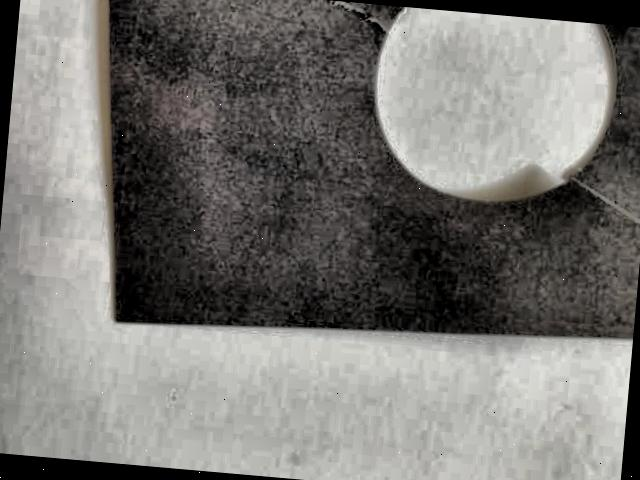Paper: (80, 0, 640, 375)
